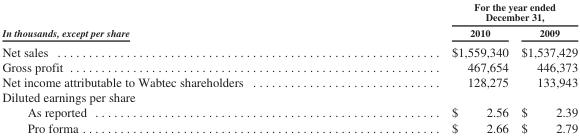table: (1, 0, 577, 134)
table column: (1, 0, 346, 134), (346, 0, 514, 134), (514, 0, 577, 134)
table column header: (1, 0, 577, 41)
table projected row header: (1, 89, 577, 104)
table row: (1, 0, 577, 24), (1, 41, 577, 59), (1, 24, 577, 41), (1, 59, 577, 74), (1, 74, 577, 89), (1, 89, 577, 104), (1, 104, 577, 119), (1, 119, 577, 134)
table spanning cell: (1, 0, 346, 41), (346, 0, 577, 24)
